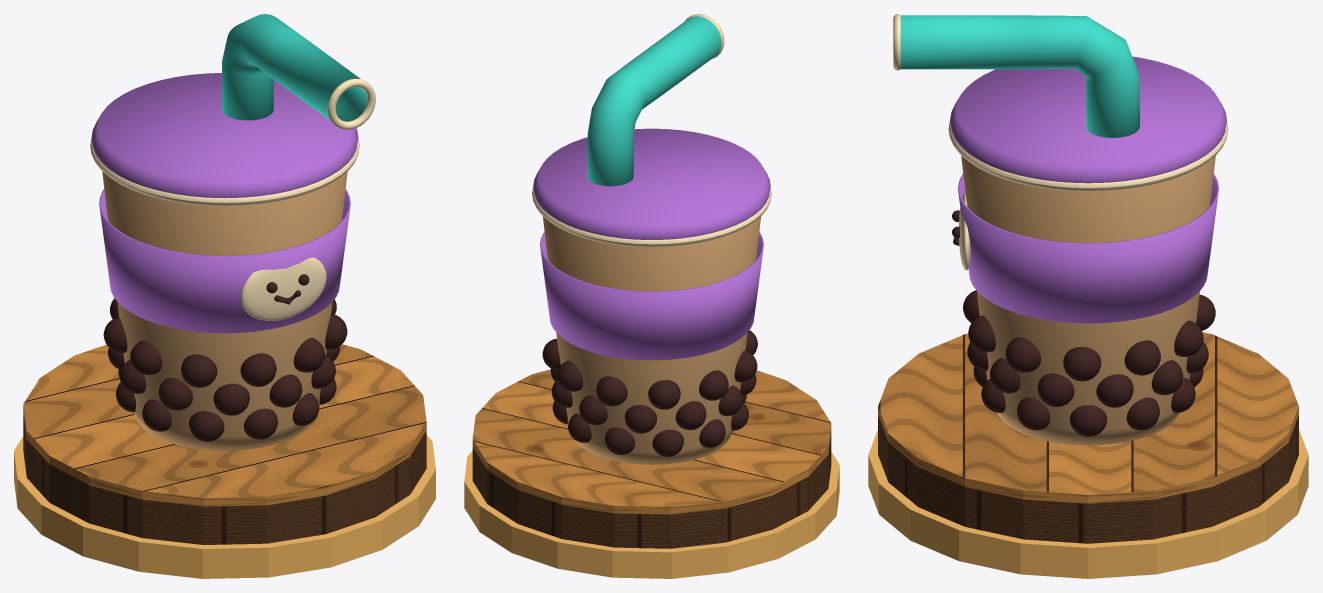
File: Boba.glb
3 views of the same model, side by side, from view 1: azimuth 30°, elevation 25°; view 2: azimuth 150°, elevation 25°; view 3: azimuth 270°, elevation 25° (orthographic). The views are drawn at different scales.
Visible parts, largest first — view 1: Boba Head, pedestal, rim; view 2: Boba Head, pedestal, rim; view 3: Boba Head, pedestal, rim.
Boxes of the visible parts, <box> form: Boba Head: <box>90,14,375,450</box>; pedestal: <box>23,344,426,544</box>; rim: <box>14,435,435,578</box>; Boba Head: <box>532,14,771,464</box>; pedestal: <box>472,369,831,548</box>; rim: <box>464,451,839,578</box>; Boba Head: <box>893,14,1228,445</box>; pedestal: <box>878,332,1298,543</box>; rim: <box>868,430,1308,578</box>.
Bounding box in the file's own units: 0.9 × 1.1 × 0.9.
8 materials, 2 textured.
